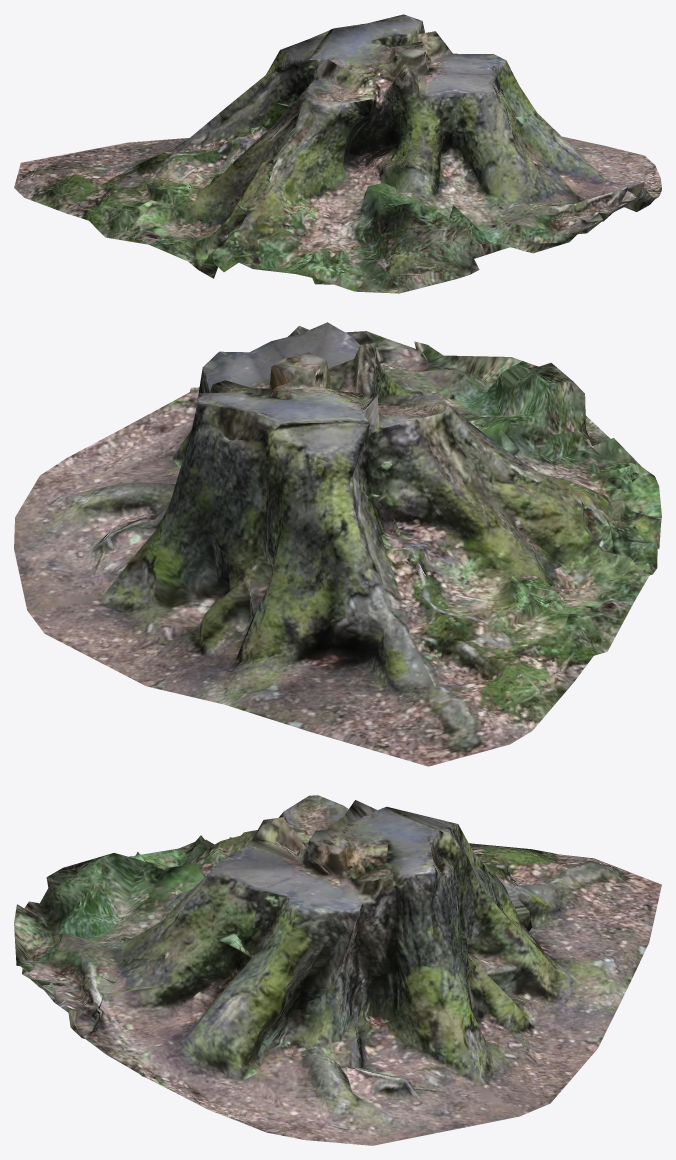
The model's file is stump.lod0.glb.
3 renders of one model, top to bottom at view 1: azimuth 30°, elevation 25°; view 2: azimuth 150°, elevation 25°; view 3: azimuth 270°, elevation 25°, orthographic. The views are drawn at different scales.
Visible parts, largest first — view 1: boubin_stump_boubin_stump_0; view 2: boubin_stump_boubin_stump_0; view 3: boubin_stump_boubin_stump_0.
Boxes of the visible parts, bbox=[...] form: boubin_stump_boubin_stump_0: bbox=[14, 14, 661, 293]; boubin_stump_boubin_stump_0: bbox=[14, 322, 661, 766]; boubin_stump_boubin_stump_0: bbox=[14, 795, 661, 1145].
Size of the model in its own units: 1.6 by 0.5519 by 1.53.
Materials: 1 (1 with a texture image).
